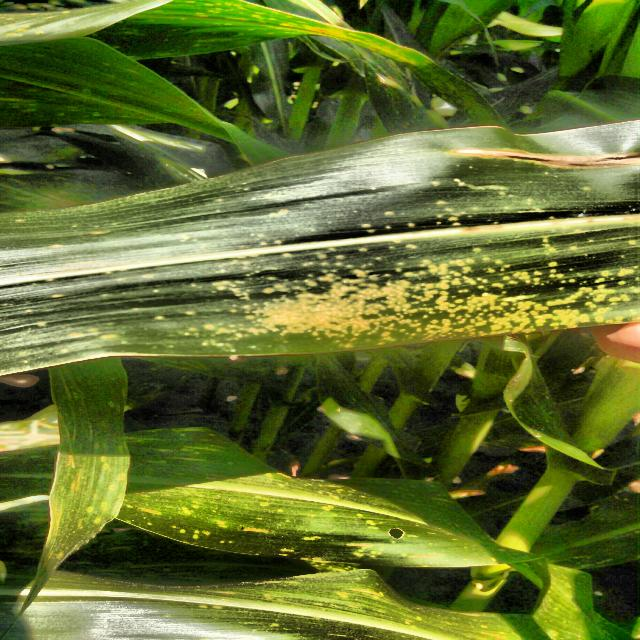common_rust: (0, 118, 637, 379)
